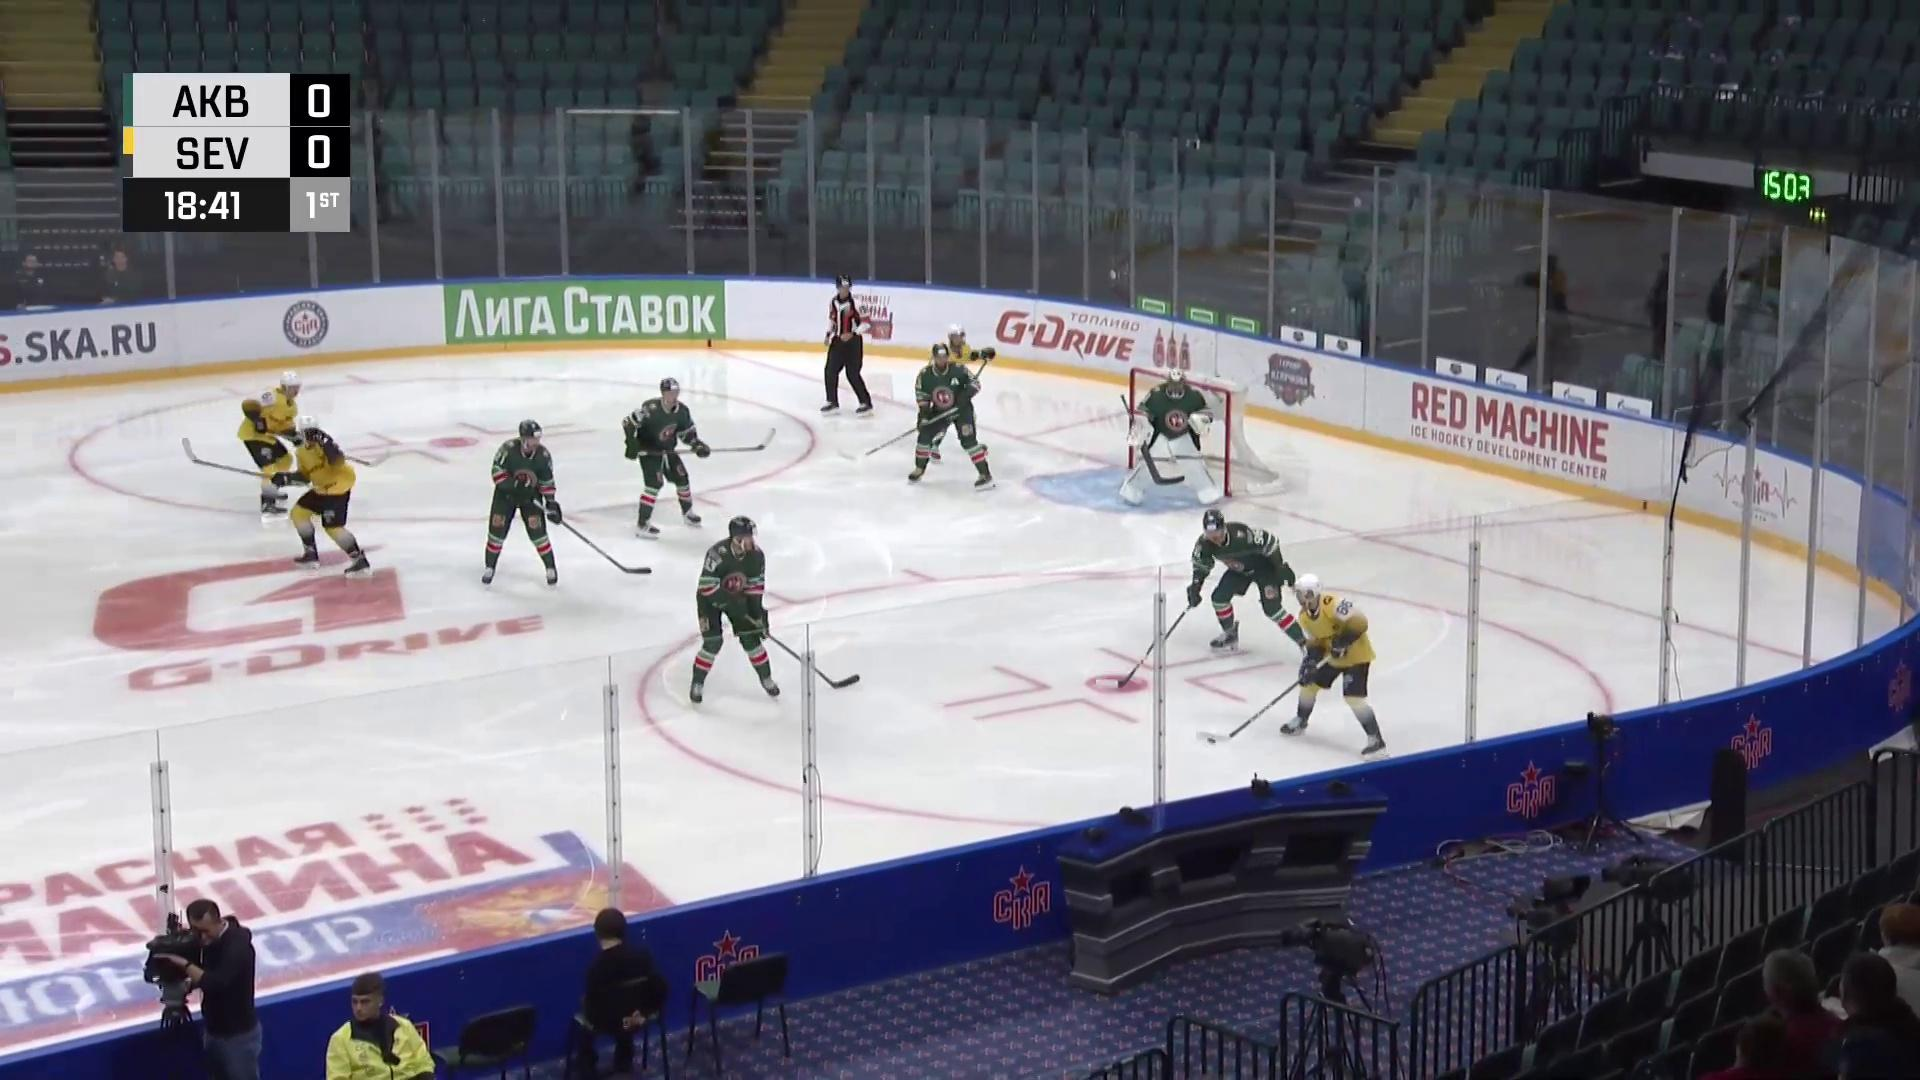ball: (1205, 736, 1218, 746)
